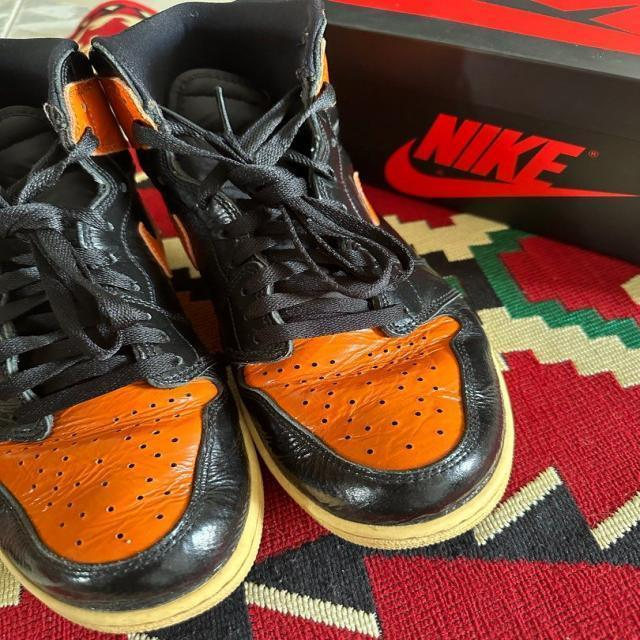nike original jordan 1: (80, 0, 640, 552), (0, 89, 276, 640)
